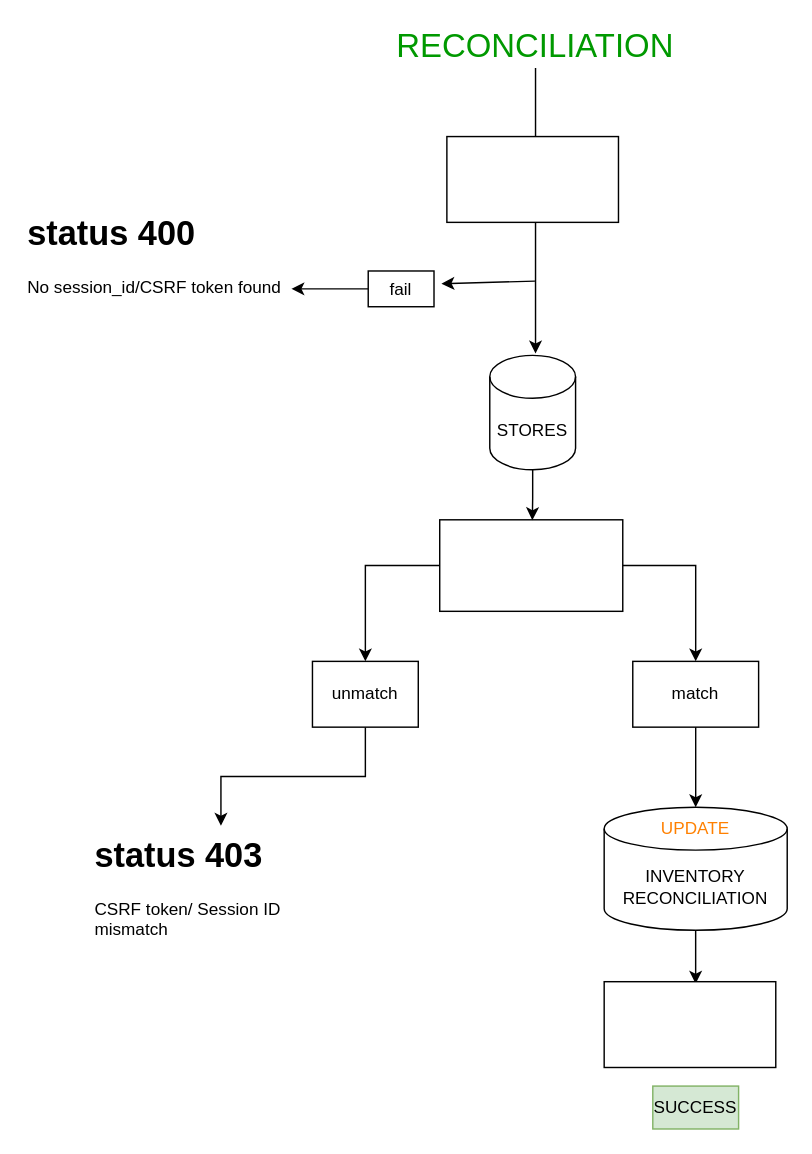
This 812x1154 diagram has some shape labels left out. The shapes that lost their labels are listed below. From the top down, each one's centre as x and y in pixels, then its label:
At (531,178): "validate session/csrf token cookie".
At (530,564): "verification of cookie and data in database".
At (689,1023): "Return row_created".
